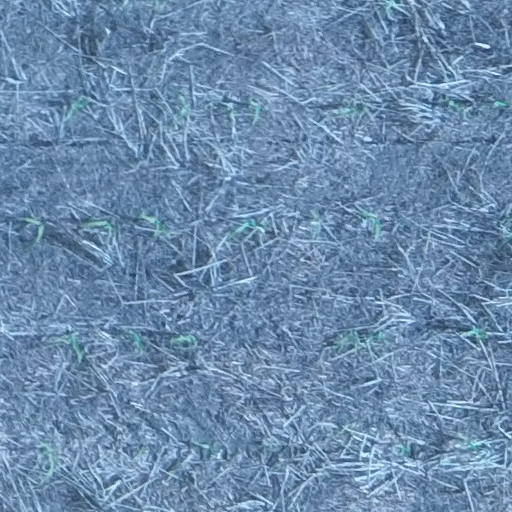planta: (138, 212, 172, 235), (60, 333, 85, 364), (229, 221, 267, 241), (22, 215, 45, 243), (360, 212, 383, 236), (83, 217, 117, 233), (119, 331, 146, 351), (334, 331, 360, 351), (458, 327, 490, 342), (43, 441, 54, 479), (443, 98, 467, 115), (67, 98, 88, 117), (246, 99, 261, 125), (176, 94, 190, 120), (171, 333, 197, 344)
